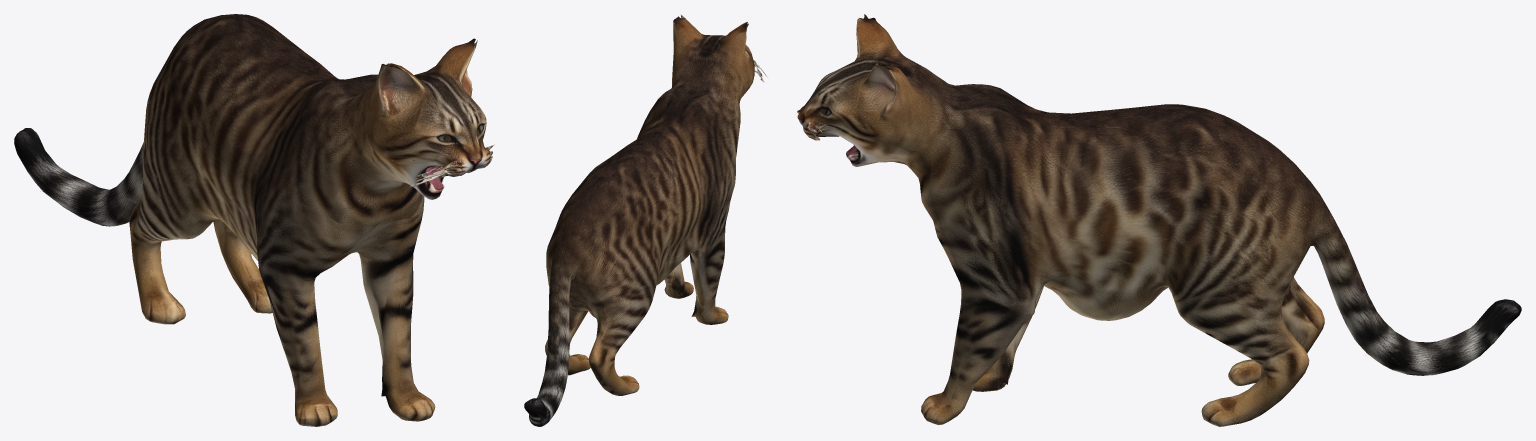
File: cat-2.glb
The picture shows the model from 3 angles, left to right: view 1: azimuth 30°, elevation 25°; view 2: azimuth 150°, elevation 25°; view 3: azimuth 270°, elevation 25°; orthographic projection. The views are drawn at different scales.
Bounding box in the file's own units: 0.3999 × 1.09 × 1.9.
1 material, 1 textured.
